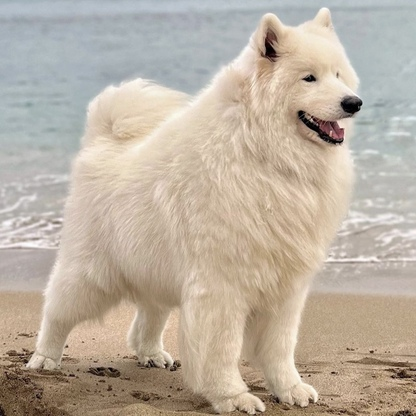samoyed: (19, 5, 367, 416)
